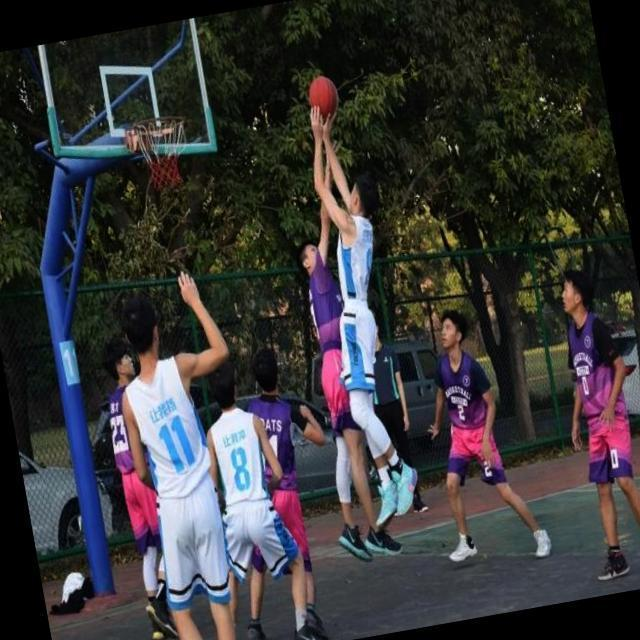ball: (306, 74, 342, 122)
